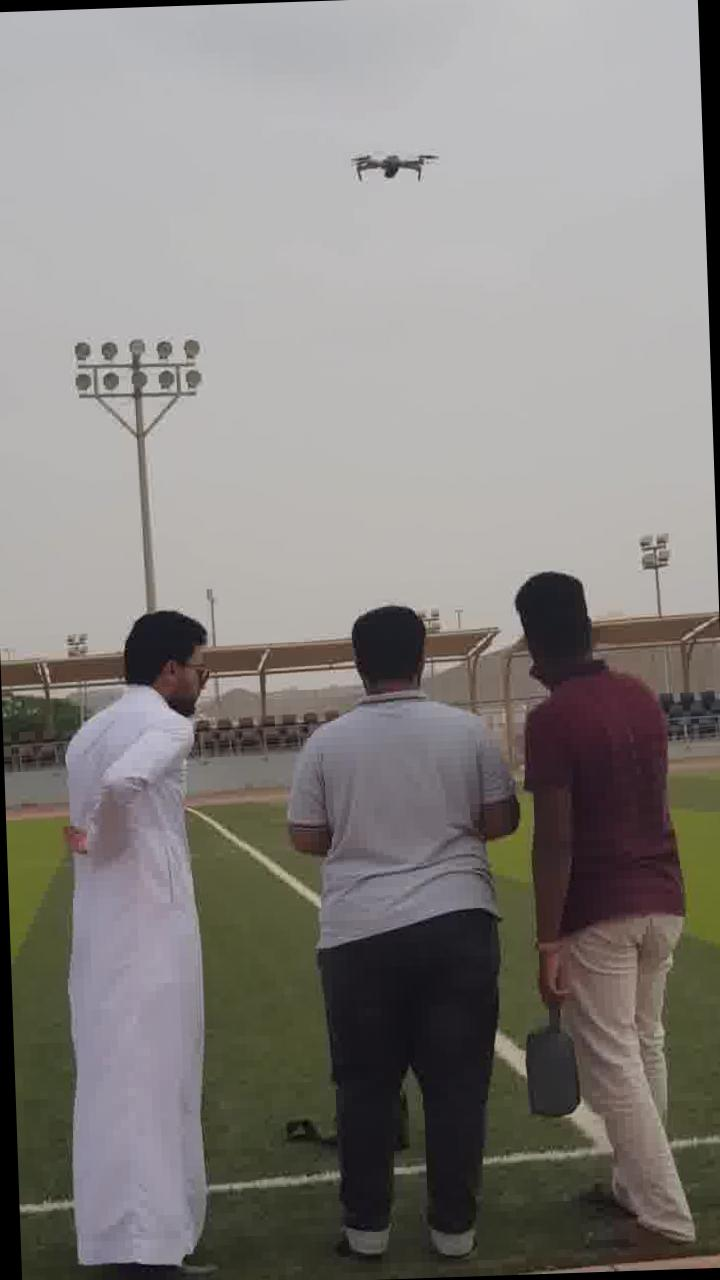drone: (342, 134, 457, 188)
